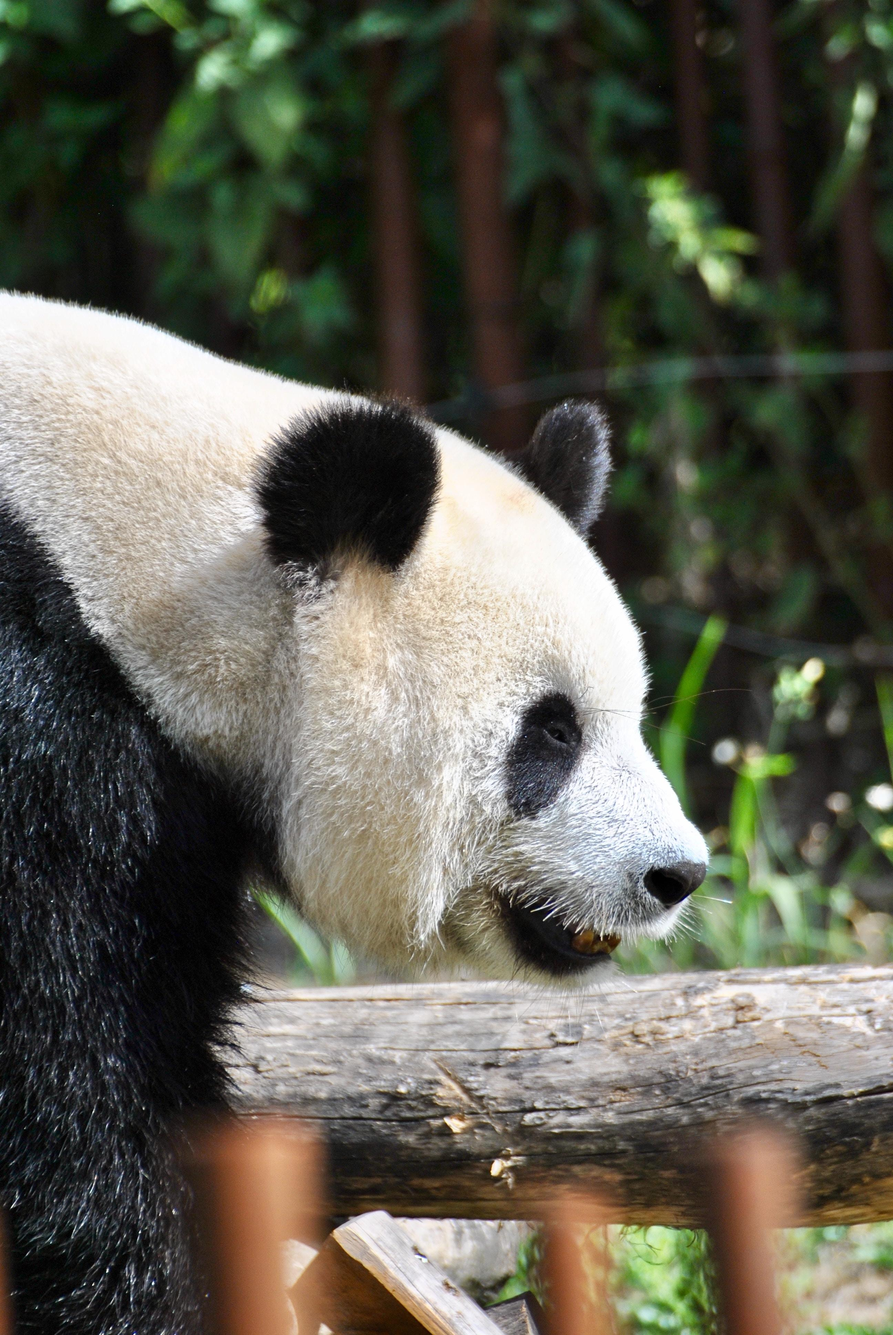panda: (0, 273, 717, 1335)
